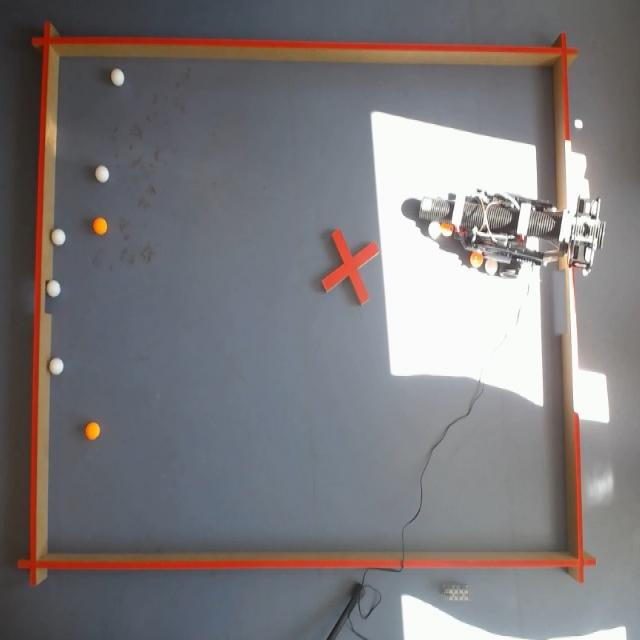orange: (81, 419, 102, 444), (90, 214, 110, 238)
robot: (418, 191, 606, 279)
white: (49, 226, 68, 249), (92, 162, 110, 186), (48, 354, 66, 378), (108, 66, 125, 90), (45, 278, 62, 299), (484, 256, 498, 276)
